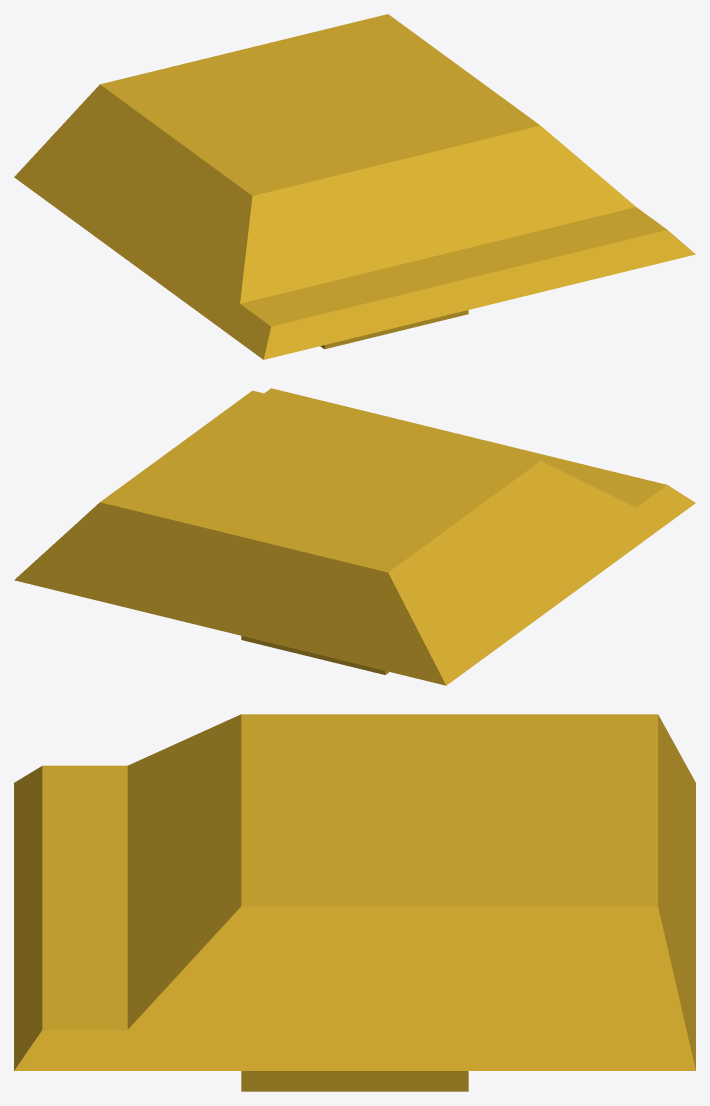
The model's file is original-83.obj.
3 views of the same model, one above another, from view 1: azimuth 30°, elevation 25°; view 2: azimuth 150°, elevation 25°; view 3: azimuth 270°, elevation 25° (orthographic). The views are drawn at different scales.
Parts seen in each view (by area): view 1: KB_-_Key_1_14_1_1/KB_-_Key_1_14_1/mesh45/mesh45-geometry#mesh45-; view 2: KB_-_Key_1_14_1_1/KB_-_Key_1_14_1/mesh45/mesh45-geometry#mesh45-; view 3: KB_-_Key_1_14_1_1/KB_-_Key_1_14_1/mesh45/mesh45-geometry#mesh45-.
Part boxes in pixels (box(x1,y1,x2,y2)): KB_-_Key_1_14_1_1/KB_-_Key_1_14_1/mesh45/mesh45-geometry#mesh45-: box(14, 14, 695, 359); KB_-_Key_1_14_1_1/KB_-_Key_1_14_1/mesh45/mesh45-geometry#mesh45-: box(14, 388, 695, 685); KB_-_Key_1_14_1_1/KB_-_Key_1_14_1/mesh45/mesh45-geometry#mesh45-: box(14, 714, 695, 1091).
Bounding box in the file's own units: 0.0764 × 0.0289 × 0.0764.
